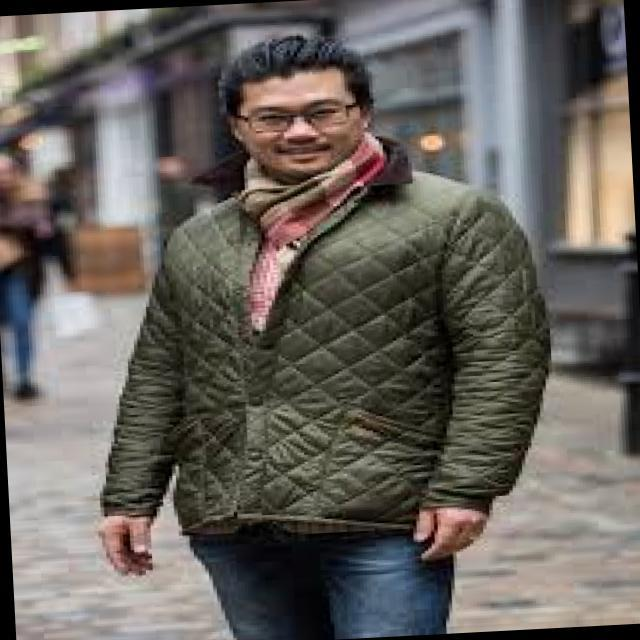coat: (96, 136, 557, 540)
trousers: (185, 526, 455, 640)
